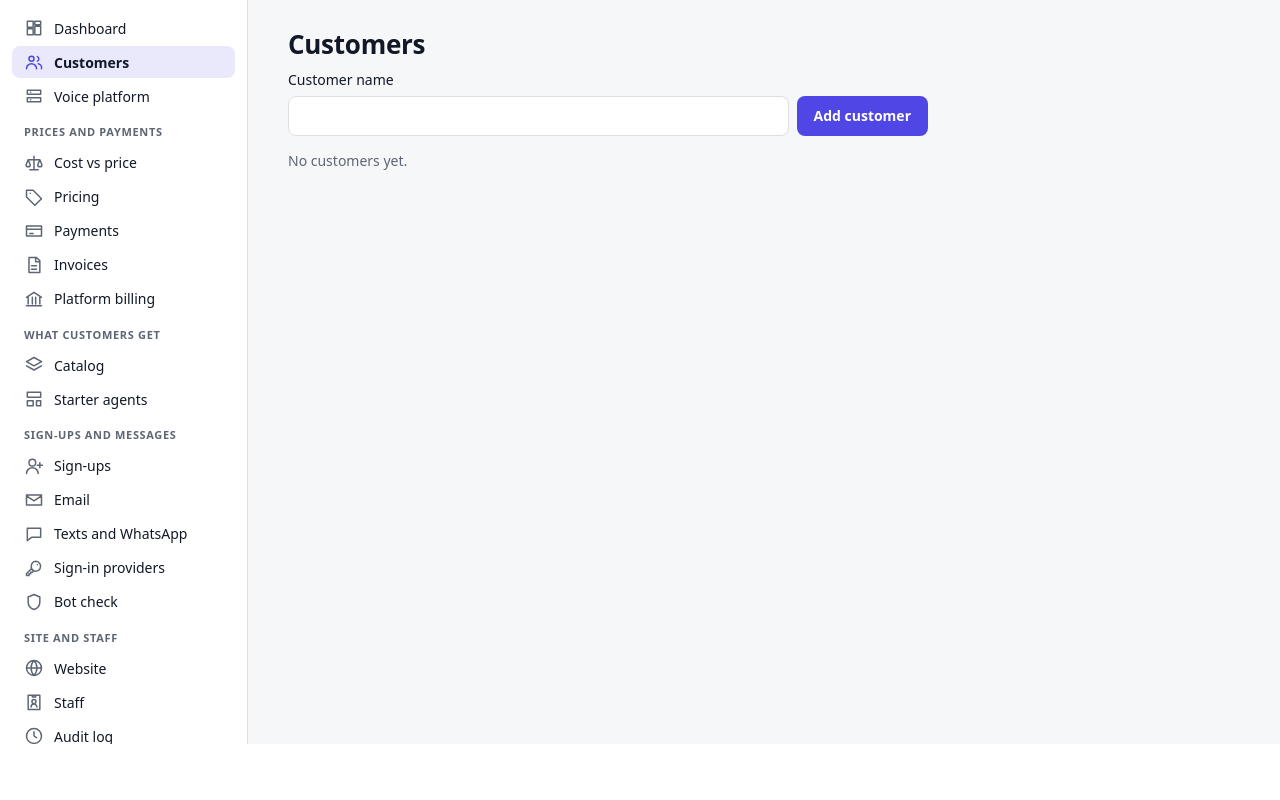
the admin panel › shows a refused name beside the field
The image size is (1280, 800).
Check: the text "No customers yet." is shown, box [288,150,407,170]
Click the button "Add customer" at (862,116), box [796,96,928,136]
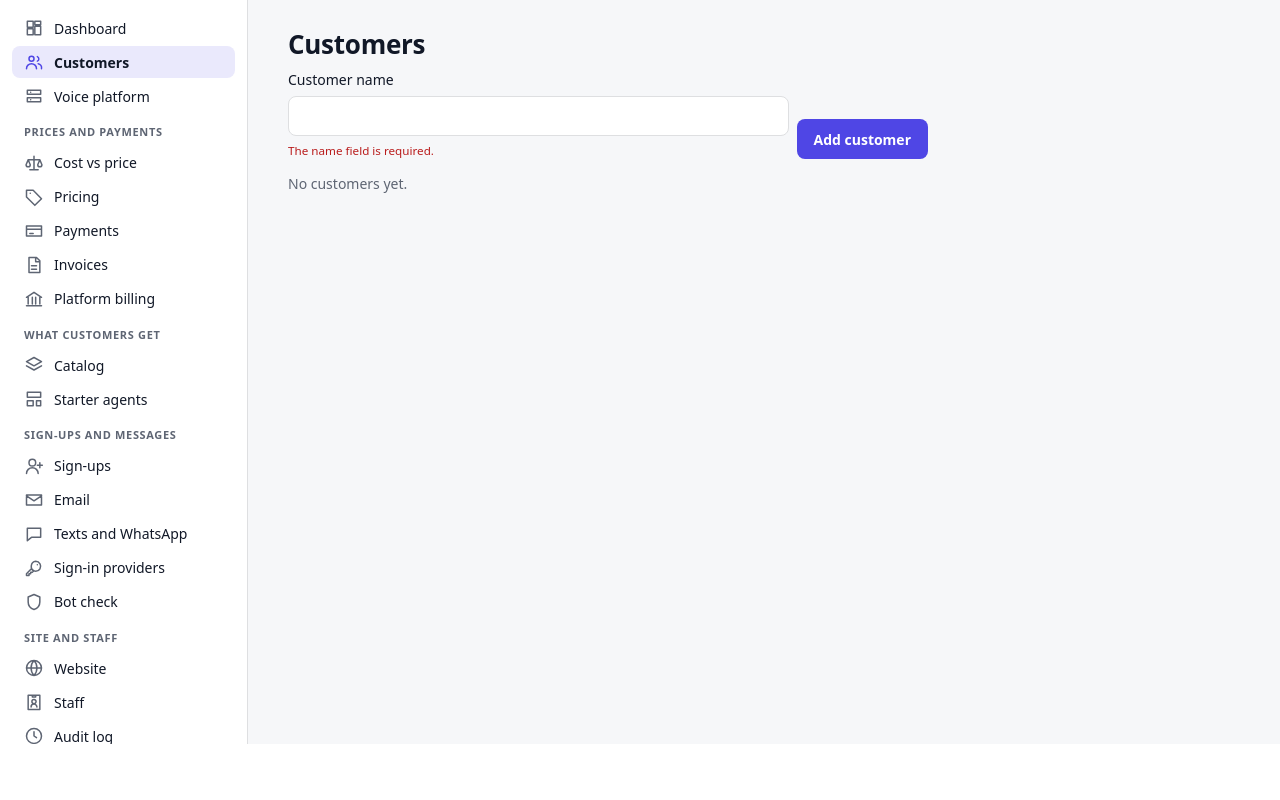
Check: the text "The name field is required." is shown, box [288,142,434,158]
